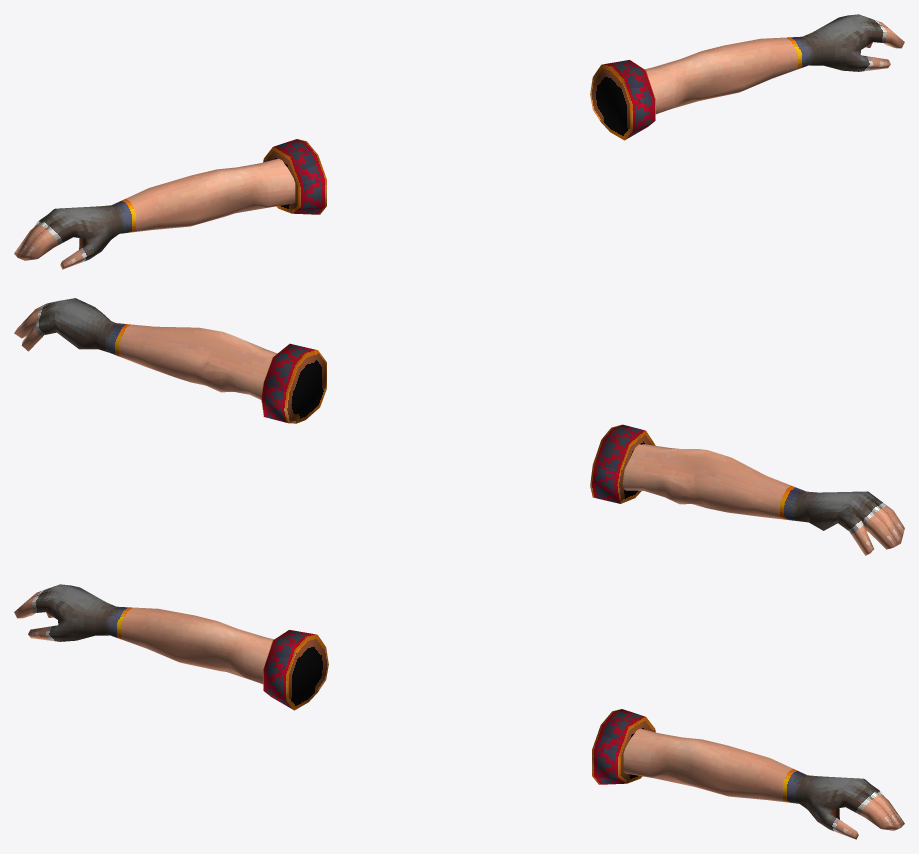
The model's file is f_gauntlet216.obj.
3 views of the same model, one above another, from view 1: azimuth 30°, elevation 25°; view 2: azimuth 150°, elevation 25°; view 3: azimuth 330°, elevation 25° (orthographic).
Visible parts, largest first — view 1: mesh00; view 2: mesh00; view 3: mesh00.
Part boxes in pixels (<box>): mesh00: <box>14,14,904,269</box>; mesh00: <box>14,298,904,555</box>; mesh00: <box>14,584,904,839</box>.
Size of the model in its own units: 173 by 12.34 by 13.99.
1 material, 1 textured.
